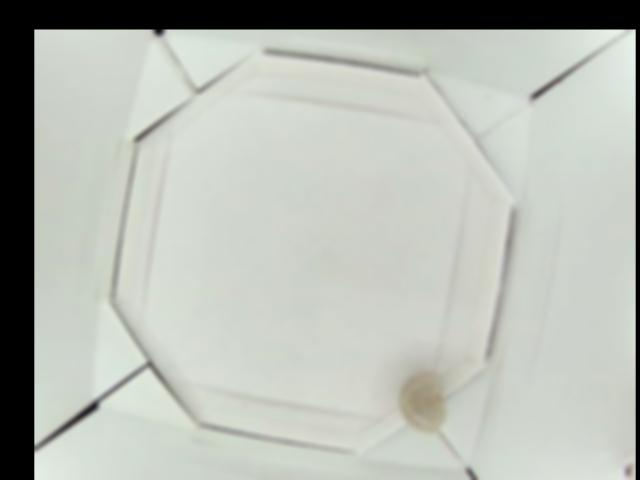Pebble: (401, 368, 444, 431)
